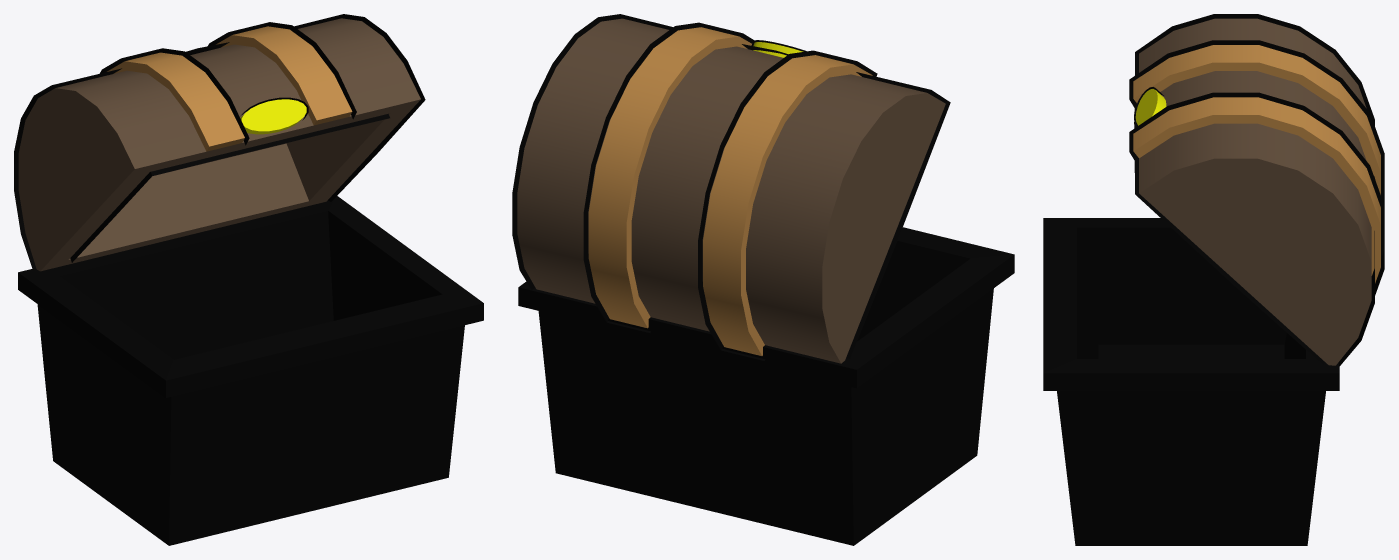
File: ChestOpen.fbx
3 renders of one model, left to right at view 1: azimuth 30°, elevation 25°; view 2: azimuth 150°, elevation 25°; view 3: azimuth 270°, elevation 25°, orthographic. The views are drawn at different scales.
Visible parts, largest first — view 1: polySurface421, polySurface420; view 2: polySurface420, polySurface421; view 3: polySurface421, polySurface420.
Boxes of the visible parts, left/top/right/bottom form: polySurface421: left=18, top=196, right=483, bottom=545; polySurface420: left=14, top=14, right=425, bottom=271; polySurface420: left=512, top=14, right=950, bottom=363; polySurface421: left=518, top=227, right=1014, bottom=545; polySurface421: left=1043, top=218, right=1339, bottom=545; polySurface420: left=1129, top=14, right=1384, bottom=366.
Size of the model in its own units: 3.28 by 3.96 by 3.05.
